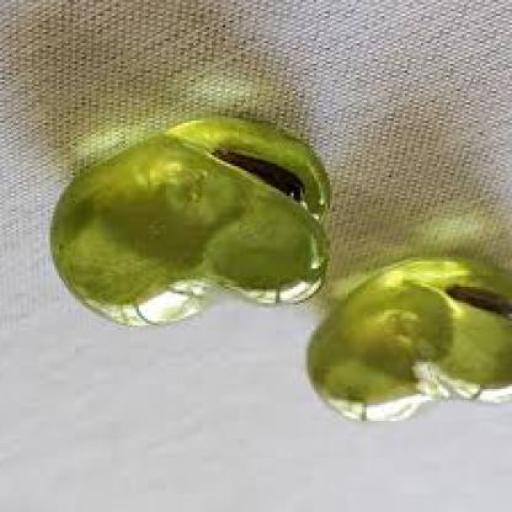glass: (52, 116, 334, 328), (310, 258, 512, 424)
